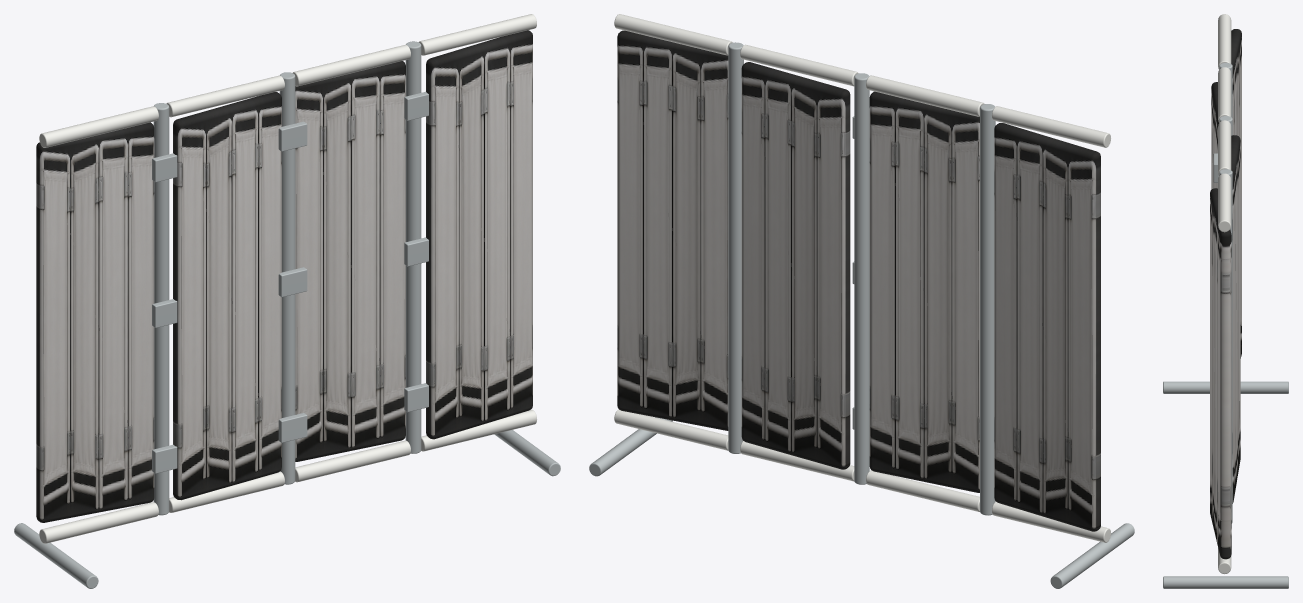
File: room_l1_img2_maintenance_privacy_screen.glb
3 views of the same model, side by side, from view 1: azimuth 30°, elevation 25°; view 2: azimuth 150°, elevation 25°; view 3: azimuth 270°, elevation 25° (orthographic). The views are drawn at different scales.
Visible parts, largest first — view 1: folding_white_panel_1, folding_white_panel_2, folding_white_panel_3, folding_white_panel_4, fold_hinge_pole_+0.48, fold_hinge_pole_-0.48, fold_hinge_pole_+0.00, panel_bottom_tube_1, panel_top_tube_1, panel_top_tube_2, panel_top_tube_4, panel_top_tube_3 (+8 smaller); view 2: folding_white_panel_4, folding_white_panel_2, folding_white_panel_3, folding_white_panel_1, fold_hinge_pole_+0.00, fold_hinge_pole_-0.48, fold_hinge_pole_+0.48, panel_top_tube_1, panel_top_tube_3, panel_top_tube_4, panel_top_tube_2, panel_bottom_tube_2 (+5 smaller); view 3: folding_white_panel_4, folding_white_panel_3, outer_support_foot_+0.9, folding_white_panel_1, outer_support_foot_-0.9, panel_top_tube_4, fold_hinge_pole_+0.48, panel_top_tube_3, panel_top_tube_2, panel_top_tube_1, folding_white_panel_2, panel_bottom_tube_4.
Boxes of the visible parts, x1,y1,x2,y2 form: folding_white_panel_1: [36, 122, 154, 522]; folding_white_panel_2: [173, 92, 281, 500]; folding_white_panel_3: [295, 61, 405, 461]; folding_white_panel_4: [426, 30, 532, 439]; fold_hinge_pole_+0.48: [405, 41, 421, 453]; fold_hinge_pole_-0.48: [153, 103, 169, 515]; fold_hinge_pole_+0.00: [279, 72, 295, 484]; panel_bottom_tube_1: [39, 502, 158, 543]; panel_top_tube_1: [39, 106, 158, 147]; panel_top_tube_2: [166, 75, 284, 117]; panel_top_tube_4: [419, 14, 536, 55]; panel_top_tube_3: [293, 44, 410, 86]; folding_white_panel_4: [617, 30, 728, 430]; folding_white_panel_2: [869, 91, 979, 492]; folding_white_panel_3: [741, 62, 850, 469]; folding_white_panel_1: [994, 123, 1100, 531]; fold_hinge_pole_+0.00: [854, 73, 869, 484]; fold_hinge_pole_-0.48: [980, 104, 995, 515]; fold_hinge_pole_+0.48: [728, 42, 743, 453]; panel_top_tube_1: [991, 106, 1110, 147]; panel_top_tube_3: [740, 44, 858, 86]; panel_top_tube_4: [614, 14, 732, 55]; panel_top_tube_2: [866, 75, 984, 116]; panel_bottom_tube_2: [866, 470, 979, 511]; folding_white_panel_4: [1210, 188, 1231, 559]; folding_white_panel_3: [1231, 135, 1240, 503]; outer_support_foot_+0.9: [1163, 576, 1288, 588]; folding_white_panel_1: [1231, 29, 1241, 358]; outer_support_foot_-0.9: [1163, 381, 1288, 393]; panel_top_tube_4: [1218, 173, 1231, 232]; fold_hinge_pole_+0.48: [1219, 169, 1232, 523]; panel_top_tube_3: [1218, 120, 1231, 175]; panel_top_tube_2: [1218, 67, 1231, 122]; panel_top_tube_1: [1218, 14, 1231, 69]; folding_white_panel_2: [1211, 82, 1218, 189]; panel_bottom_tube_4: [1218, 547, 1231, 574].
Bounding box in the file's own units: 1.87 × 1.57 × 0.48.
Materials: 3 (1 with a texture image).
